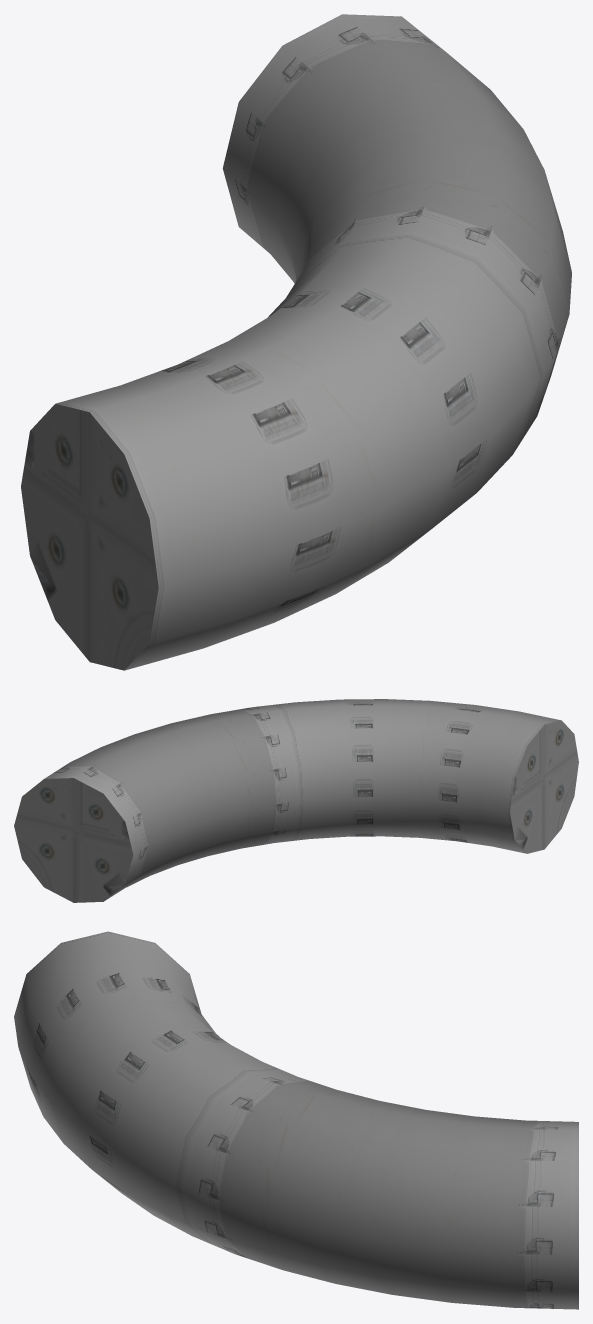
File: SM_Pipe1c2.fbx
3 renders of one model, top to bottom at view 1: azimuth 30°, elevation 25°; view 2: azimuth 150°, elevation 25°; view 3: azimuth 270°, elevation 25°, orthographic. The views are drawn at different scales.
Visible parts, largest first — view 1: SM_Pipe1c2_LOD0; view 2: SM_Pipe1c2_LOD0; view 3: SM_Pipe1c2_LOD0.
Boxes of the visible parts, left/top/right/bottom form: SM_Pipe1c2_LOD0: left=21, top=14, right=571, bottom=670; SM_Pipe1c2_LOD0: left=14, top=699, right=578, bottom=902; SM_Pipe1c2_LOD0: left=14, top=931, right=578, bottom=1309.
Bounding box in the file's own units: 120 × 120 × 40.
